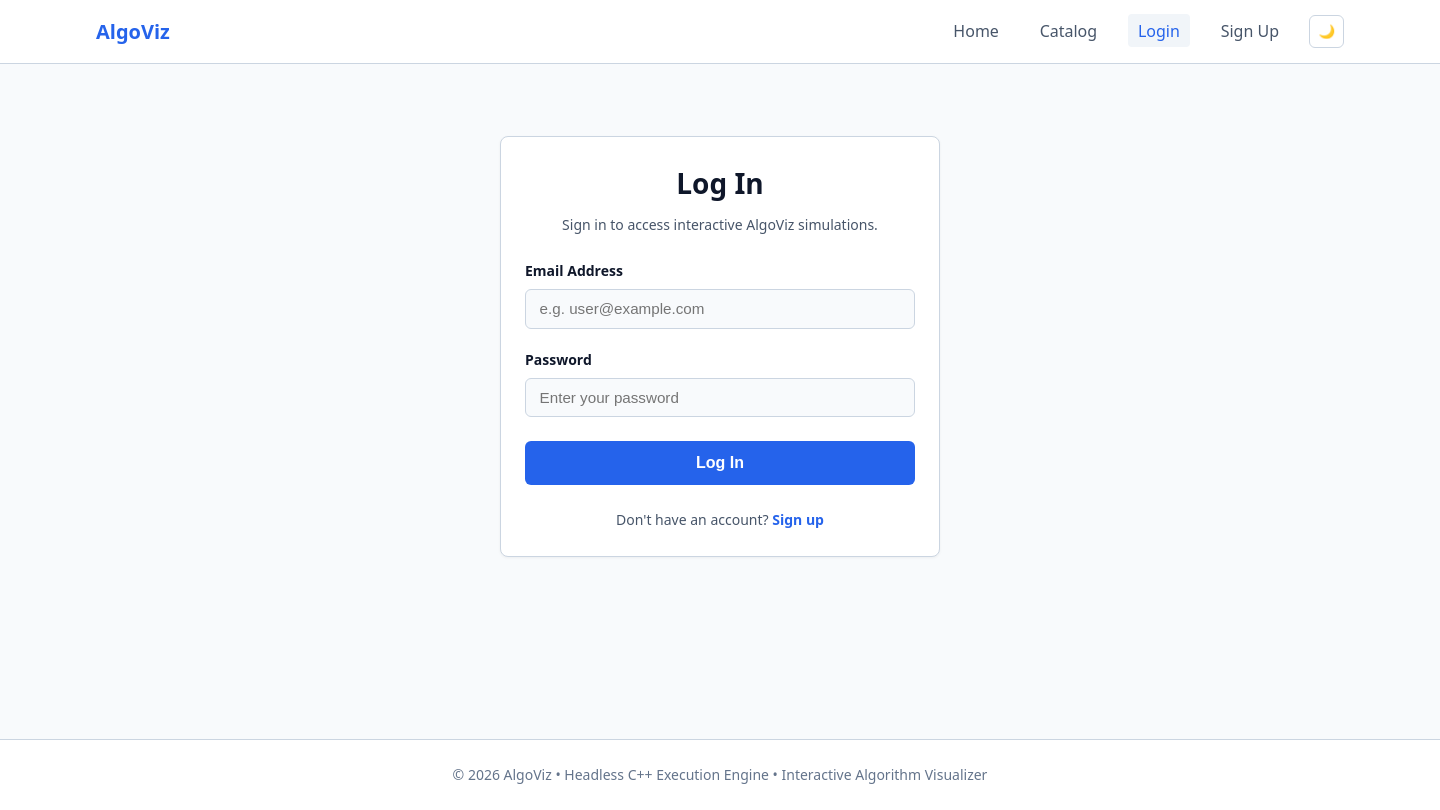
Test: Frontend User Authentication System Tests › 3. Client-side validation shows error on empty login submission
Click the button "Log In". click: coordinates (720, 463)
box: [525, 441, 915, 485]
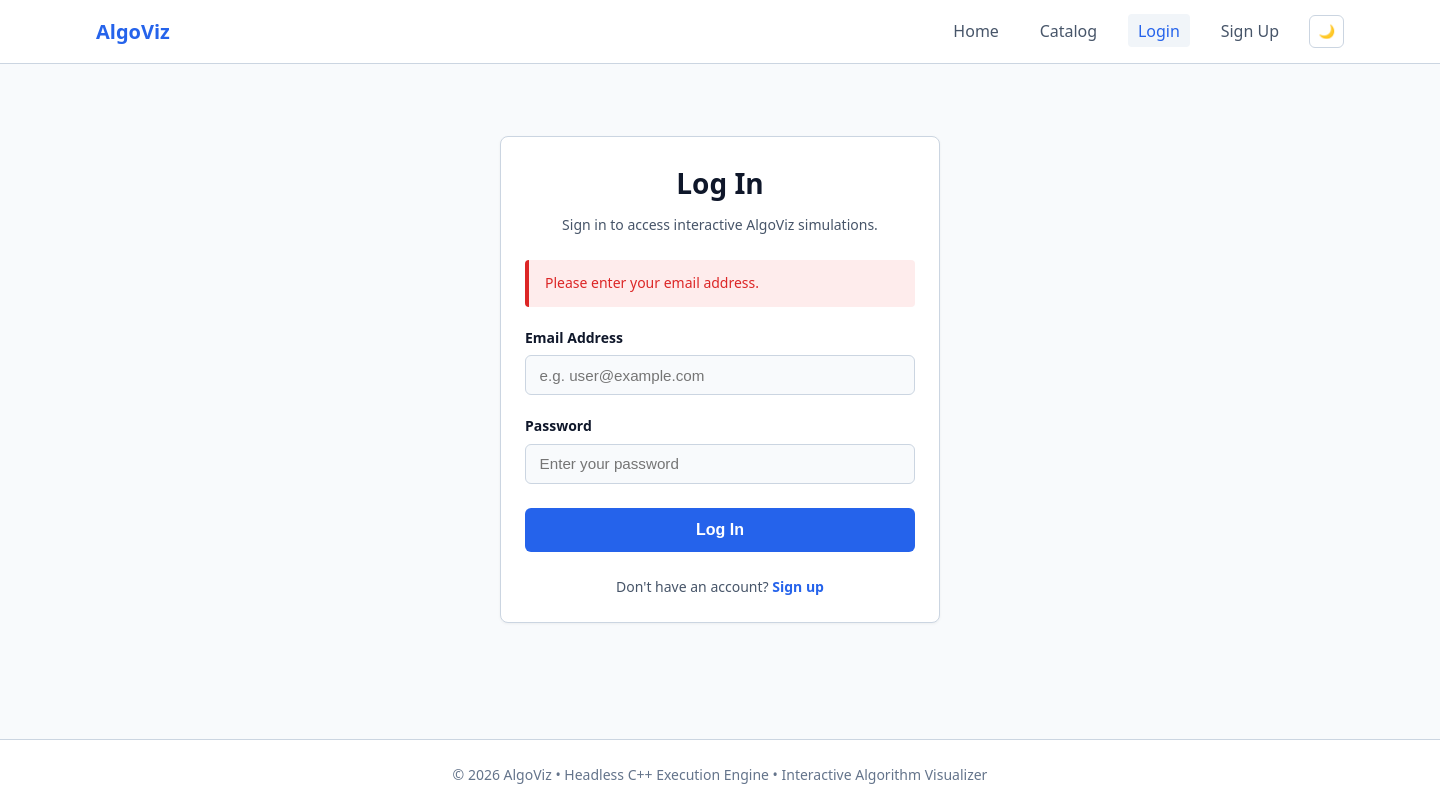
expect the message shows "Please enter your email address": met, box [545, 273, 759, 292]
